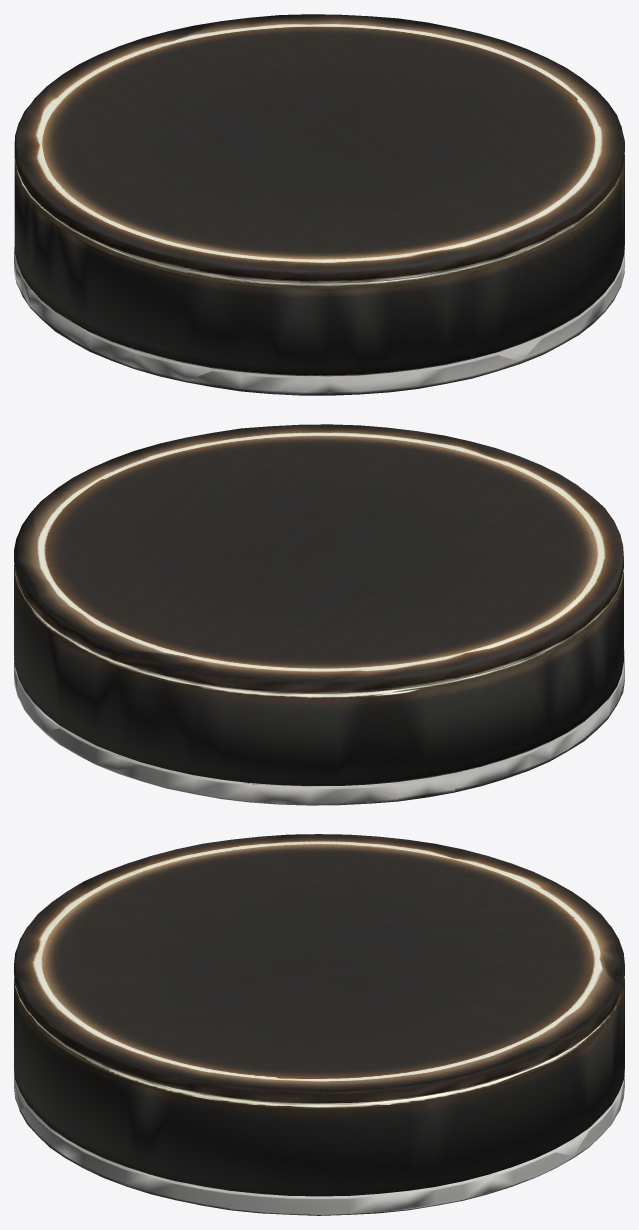
Rendered from podium_v01.optimized.glb.
The picture shows the model from 3 angles, top to bottom: view 1: azimuth 30°, elevation 25°; view 2: azimuth 150°, elevation 25°; view 3: azimuth 270°, elevation 25°; orthographic projection.
Parts seen in each view (by area): view 1: tripo_node_039d0ac9-ffb4-47ff-b2aa-4eed9223ea46; view 2: tripo_node_039d0ac9-ffb4-47ff-b2aa-4eed9223ea46; view 3: tripo_node_039d0ac9-ffb4-47ff-b2aa-4eed9223ea46.
Part boxes in pixels (<box>): tripo_node_039d0ac9-ffb4-47ff-b2aa-4eed9223ea46: <box>14,14,624,395</box>; tripo_node_039d0ac9-ffb4-47ff-b2aa-4eed9223ea46: <box>14,424,624,805</box>; tripo_node_039d0ac9-ffb4-47ff-b2aa-4eed9223ea46: <box>14,834,624,1215</box>.
Size of the model in its own units: 0.998 by 0.2245 by 0.998.
Materials: 1 (1 with a texture image).
